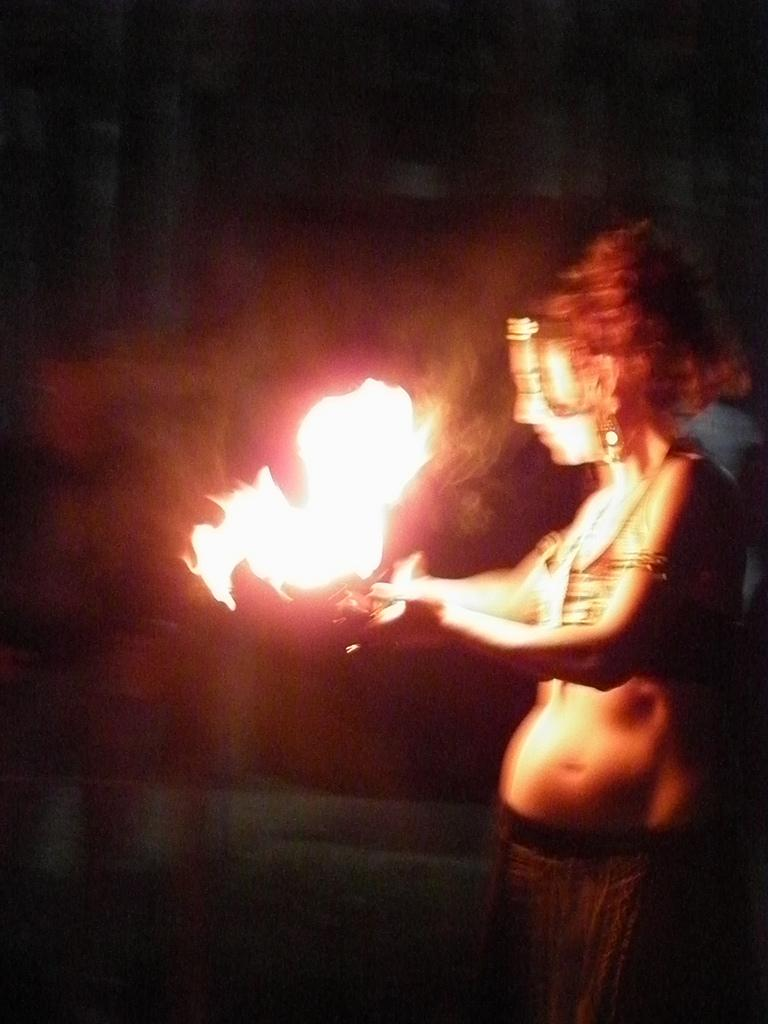fire: (302, 378, 412, 582), (200, 490, 278, 570)
